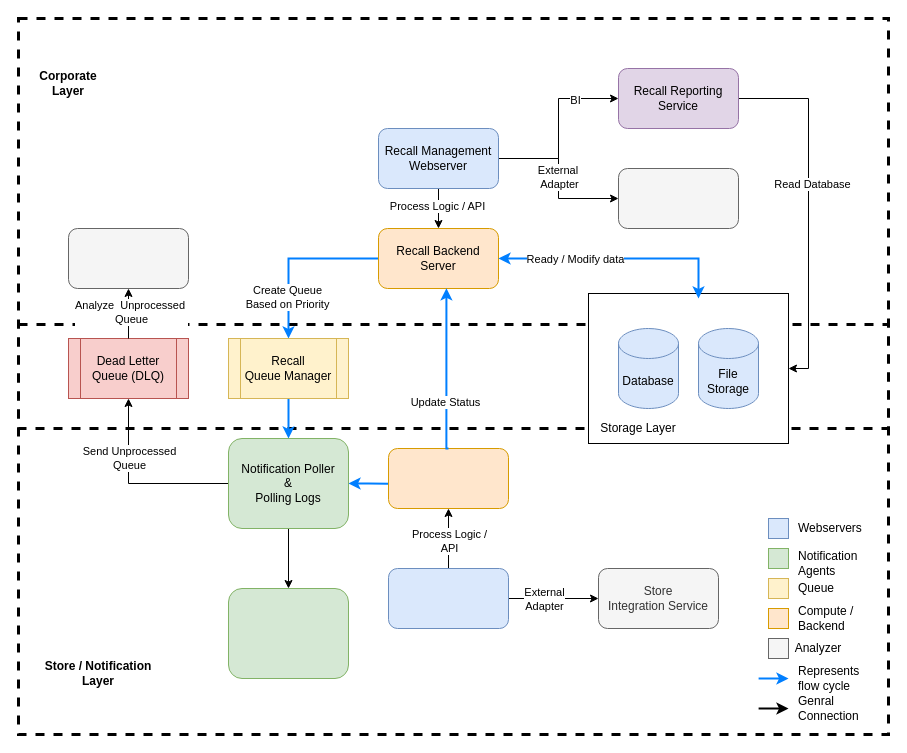
Image size: 907x753. Some labels were removed from this diagram. The centre of each missing label's shape, as x and y in pixels:
Notification Delivery Agent & Delivery Logs: (288,633)
Queue Analyzer Engine: (128,258)
Recall Integration Service: (678,198)
Store / Support webserver: (448,598)
Store Backend Server: (448,478)
